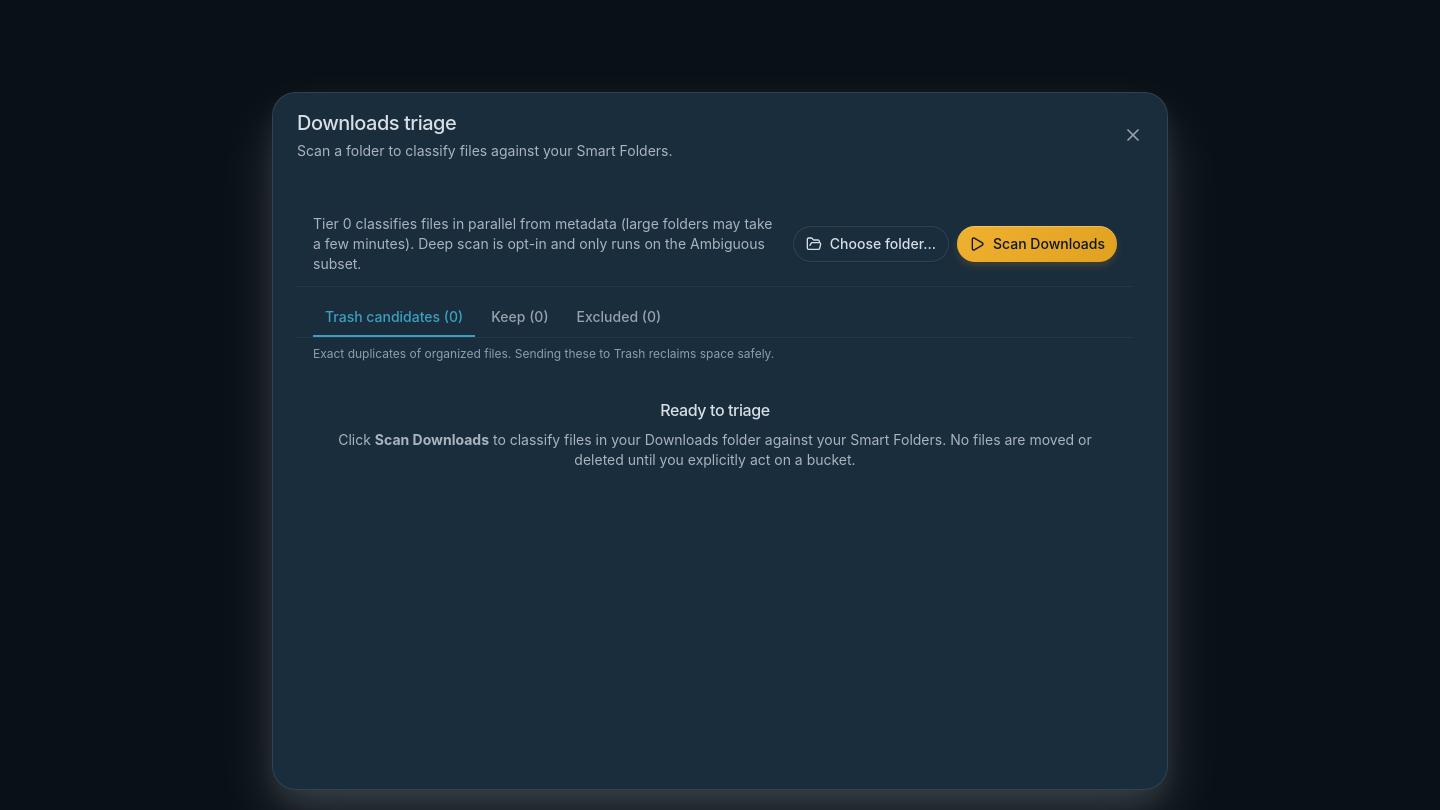
Test: DownloadsTriageView trash selection › NO_SESSION resets tab and clears session chrome
The width and height of the screenshot is (1440, 810).
Click the button "Scan Downloads": x=1037, y=244 top-left (957, 226), bottom-right (1117, 262)
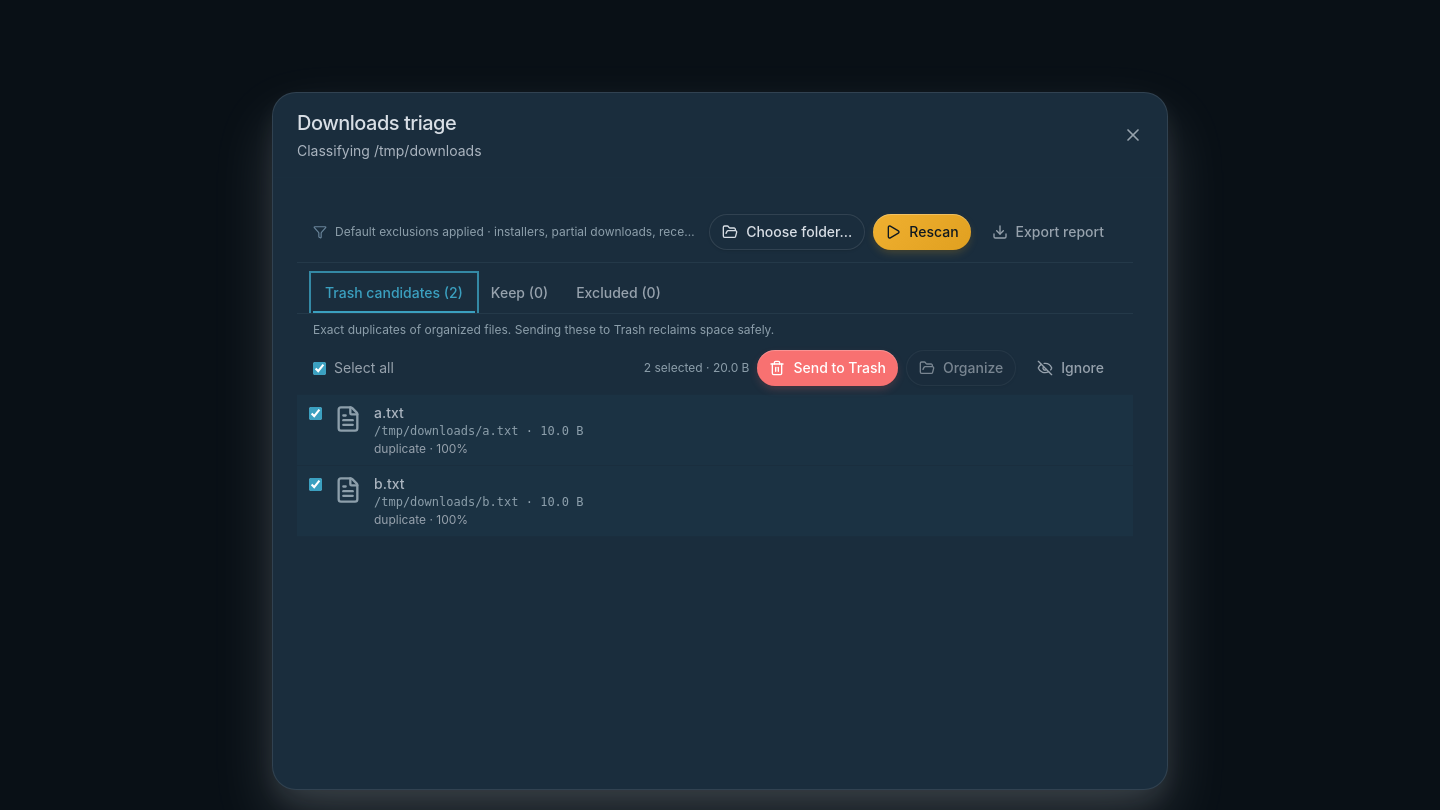
expect the element titled "Session t-session-1" is shown: met, box top-left (313, 224), bottom-right (697, 240)
expect the checkbox named "Select a.txt" is shown: met, box top-left (309, 407), bottom-right (322, 420)
Click the button "Ignore": x=1071, y=368 top-left (1024, 350), bottom-right (1117, 386)
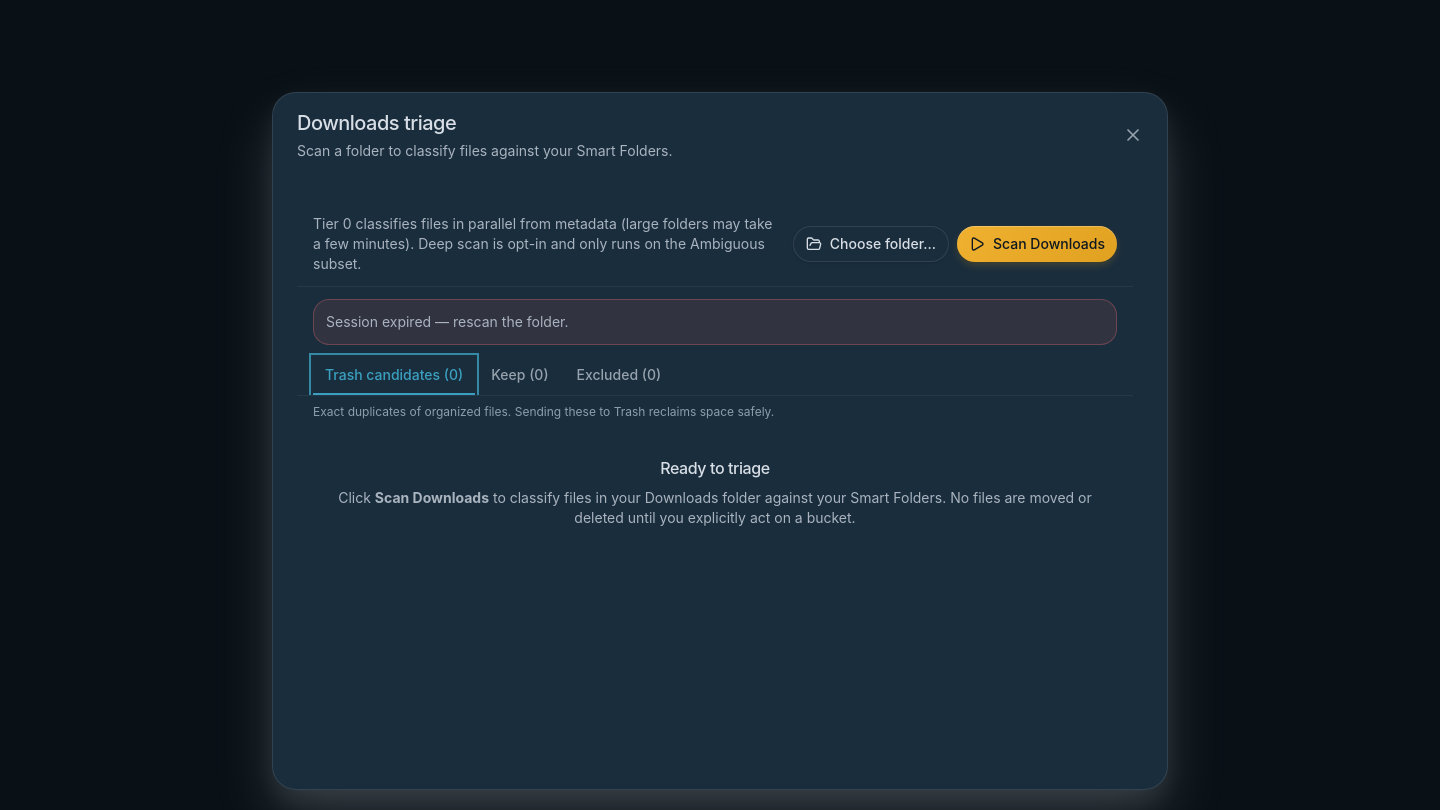
expect the button "Scan Downloads" is enabled: met, box top-left (957, 226), bottom-right (1117, 262)
expect the text "Session expired — rescan the folder." is shown: met, box top-left (326, 313), bottom-right (568, 330)
